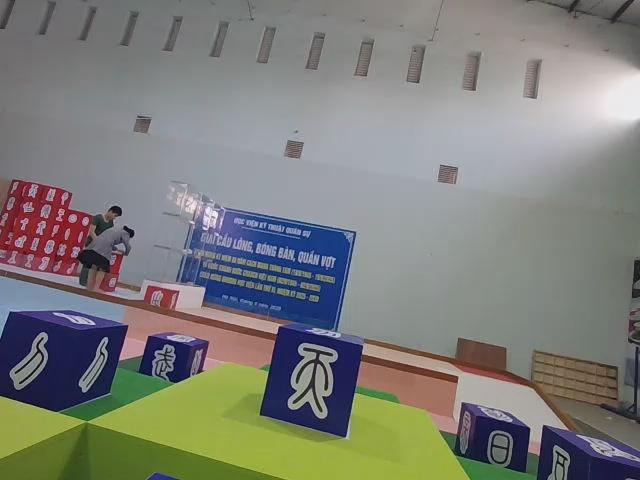R2 Fake Blue: (260, 323, 364, 439), (454, 403, 531, 474), (139, 332, 209, 385)
R2 Real Blue: (0, 309, 129, 412), (534, 426, 640, 480)
